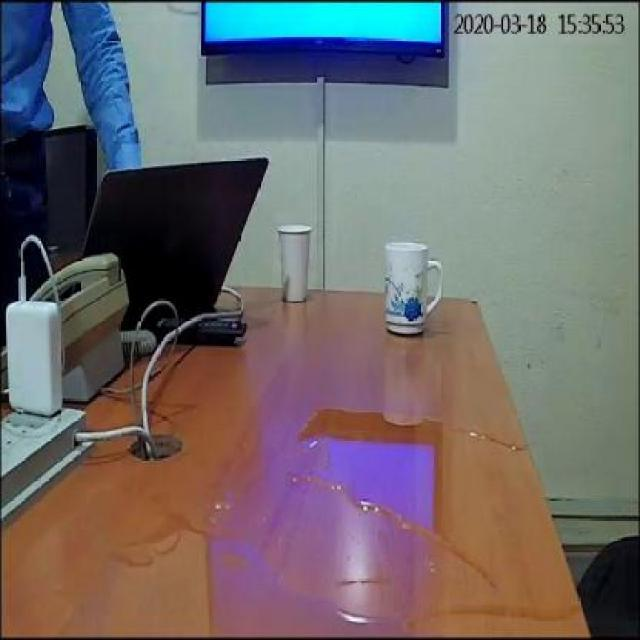spill: (298, 402, 582, 616), (102, 527, 398, 633)
